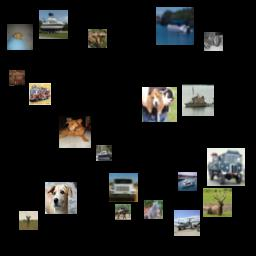airplane: (174, 210, 200, 236)
cat: (144, 200, 163, 219), (204, 32, 223, 51)
deer: (203, 188, 232, 217), (19, 211, 38, 230), (9, 70, 25, 86)
dog: (142, 87, 177, 122), (59, 116, 91, 148), (45, 182, 77, 214)
frog: (7, 24, 33, 50), (88, 29, 107, 48)
ship: (156, 7, 194, 45), (182, 84, 214, 116), (39, 10, 68, 39), (178, 172, 197, 191), (96, 145, 112, 161)
truck: (207, 148, 245, 186), (109, 173, 138, 202), (29, 83, 51, 105)
